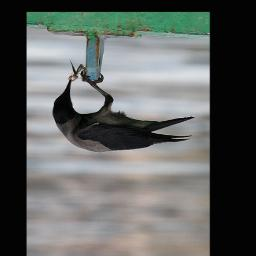Crow: (52, 71, 195, 154)
